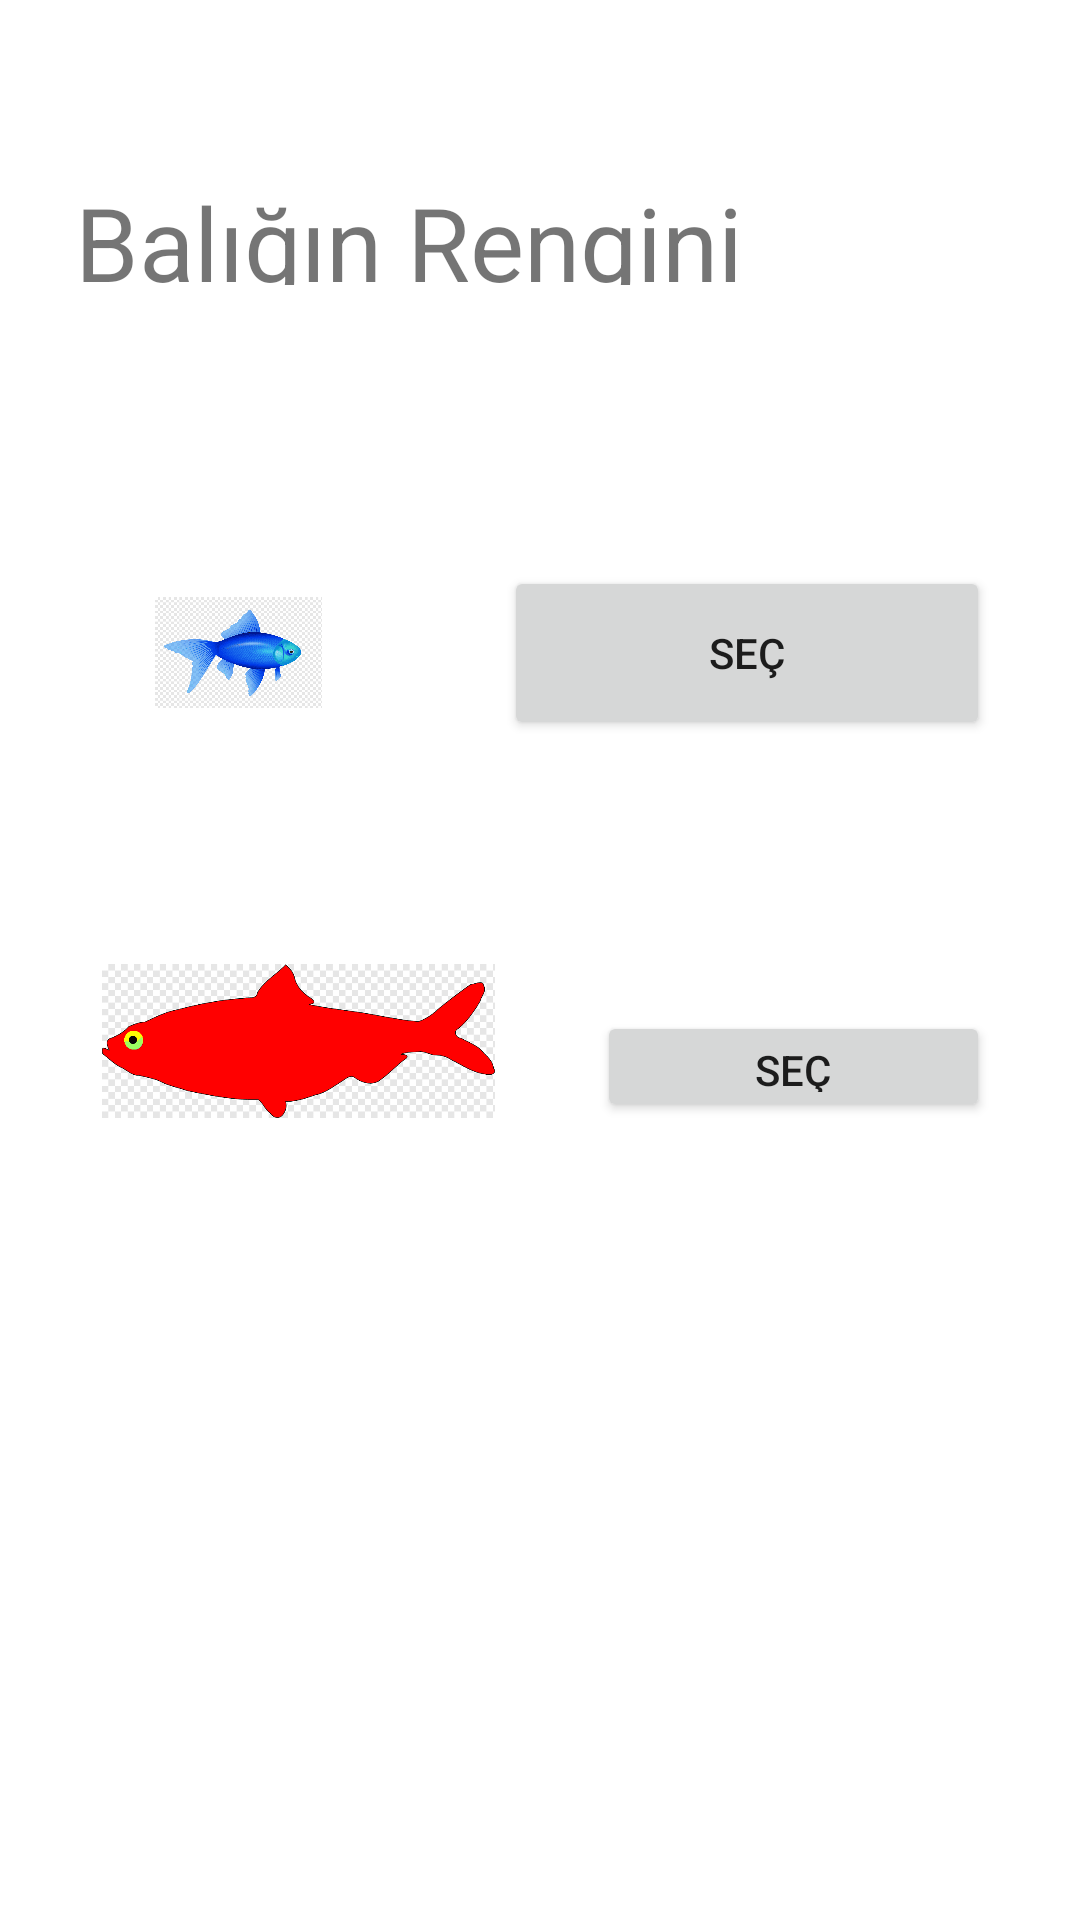

Point at icon controls on the screen. Image size 1080x1920, points as (x,y).
mavi: (238,652)
